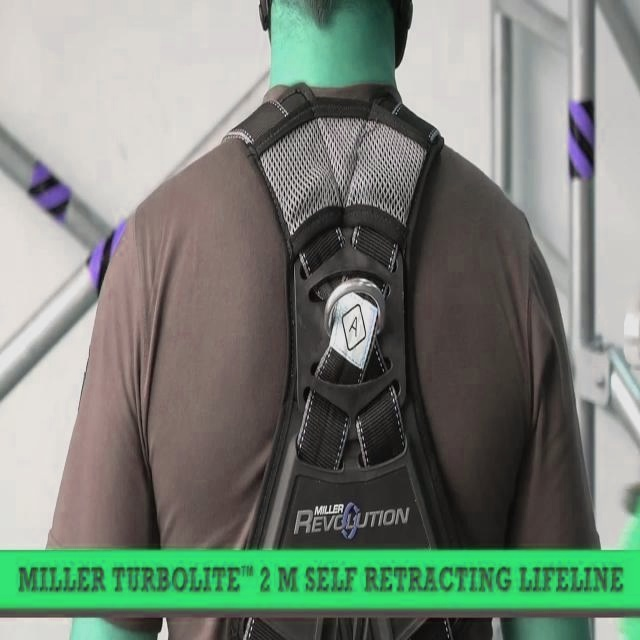safety belt: (166, 74, 475, 624)
